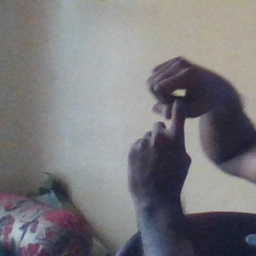Q: (125, 55, 227, 187)
